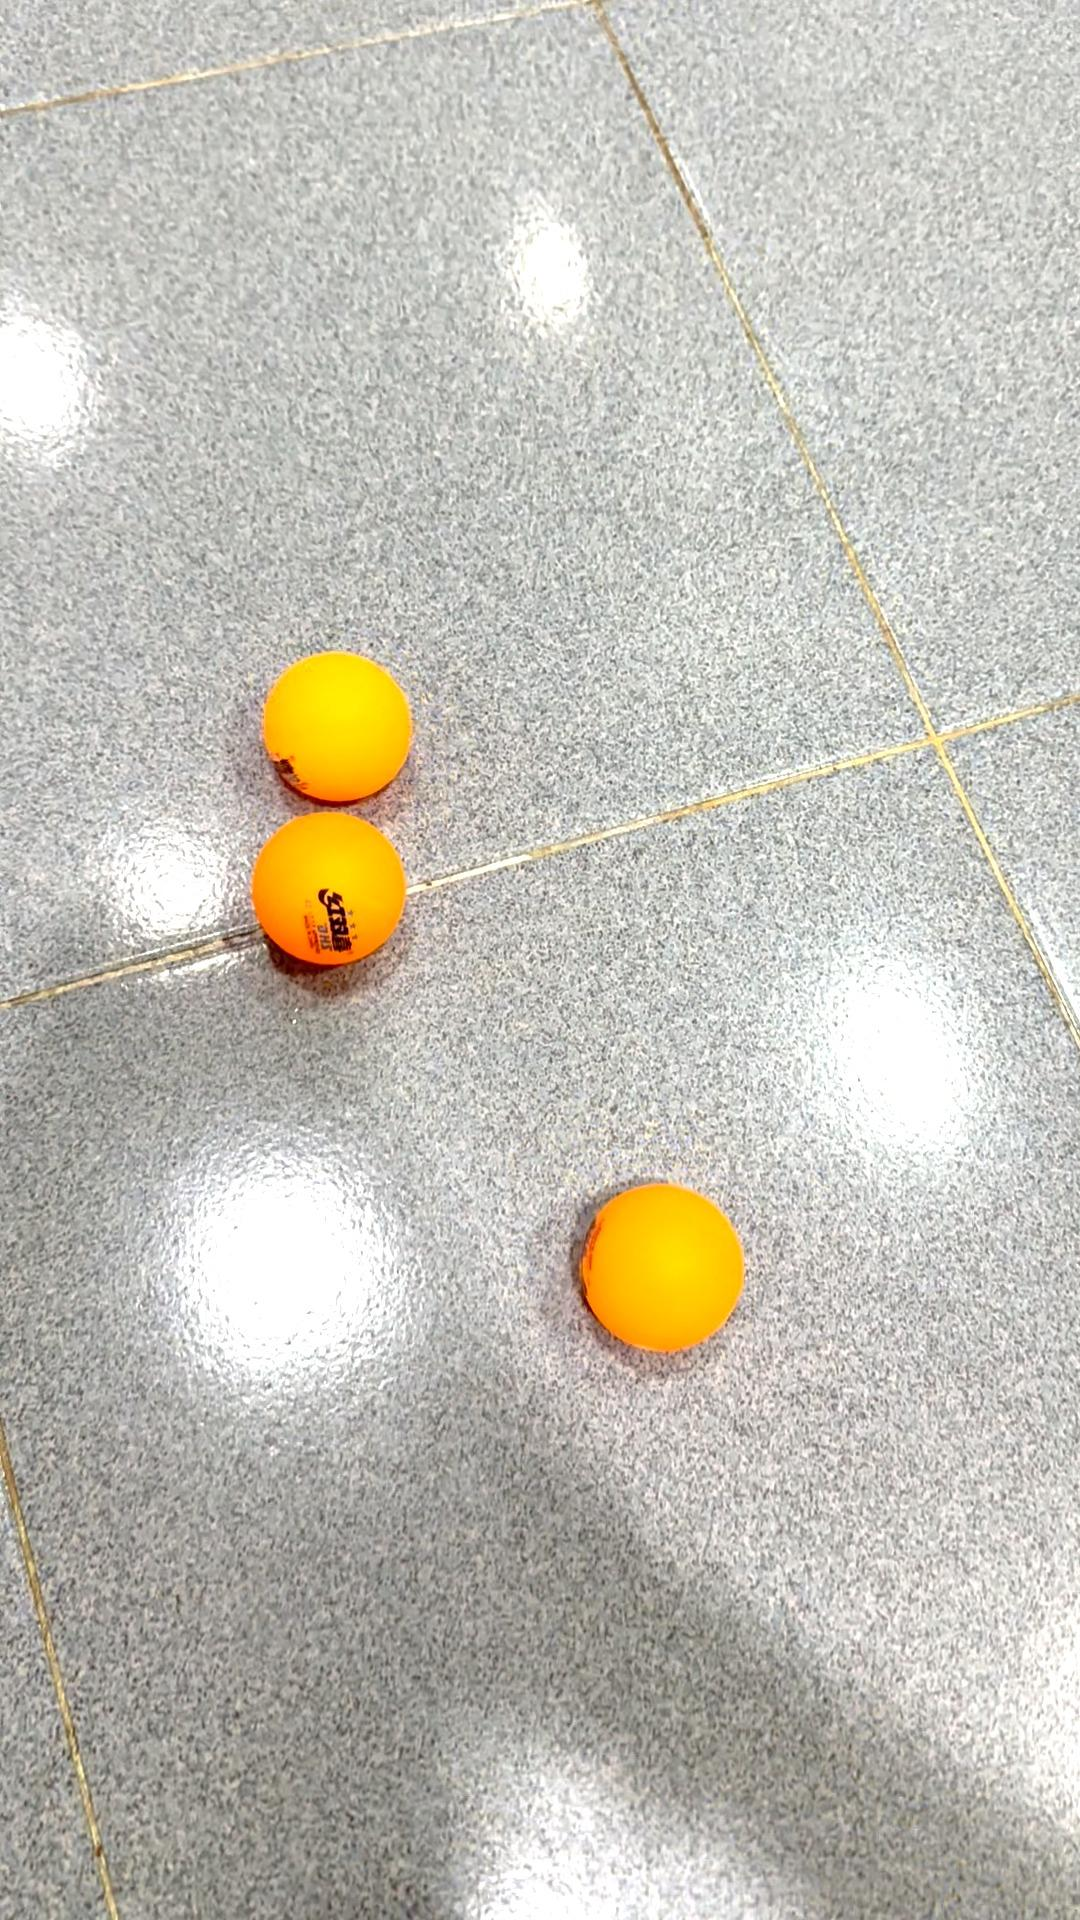oball: (571, 1175, 750, 1373), (228, 804, 415, 988), (261, 634, 423, 812)
